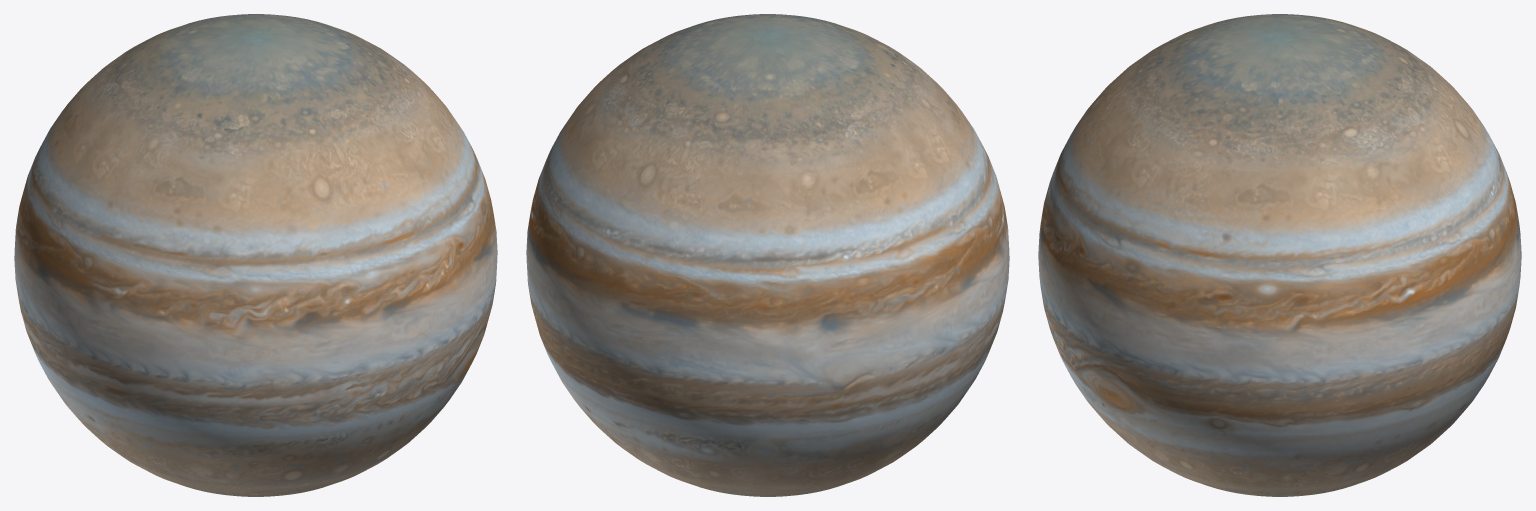
Rendered from jupiter.glb.
3 views of the same model, side by side, from view 1: azimuth 30°, elevation 25°; view 2: azimuth 150°, elevation 25°; view 3: azimuth 270°, elevation 25° (orthographic).
Visible parts, largest first — view 1: Jupiter; view 2: Jupiter; view 3: Jupiter.
Part boxes in pixels (left/top/right/bottom): Jupiter: left=14, top=14, right=497, bottom=496; Jupiter: left=526, top=14, right=1009, bottom=496; Jupiter: left=1038, top=14, right=1521, bottom=496.
Size of the model in its own units: 2 by 2 by 2.
Materials: 1 (1 with a texture image).
